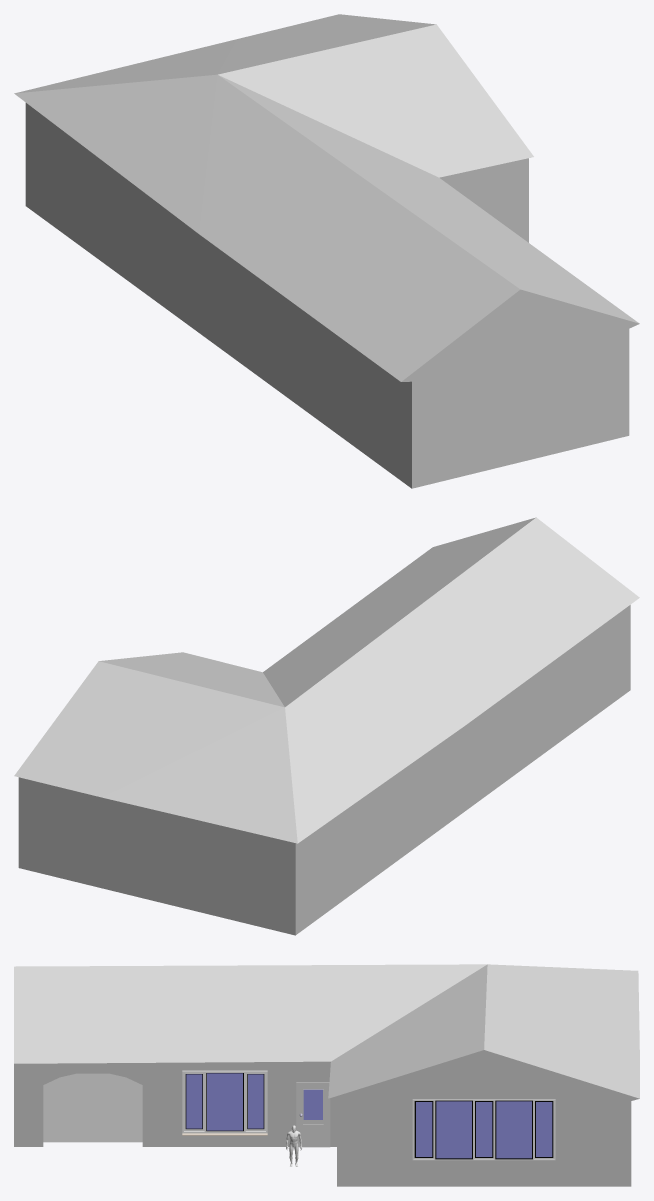
Rendered from House.fbx.
3 views of the same model, one above another, from view 1: azimuth 30°, elevation 25°; view 2: azimuth 150°, elevation 25°; view 3: azimuth 270°, elevation 25° (orthographic). The views are drawn at different scales.
Visible parts, largest first — view 1: Cube; view 2: Cube; view 3: Cube, Man.
Part boxes in pixels (x1,y1,x2,y2): Cube: (14, 14, 639, 488); Cube: (14, 517, 639, 935); Cube: (14, 964, 639, 1186); Man: (286, 1125, 301, 1166).
Bounding box in the file's own units: 1234 × 632 × 2535.
